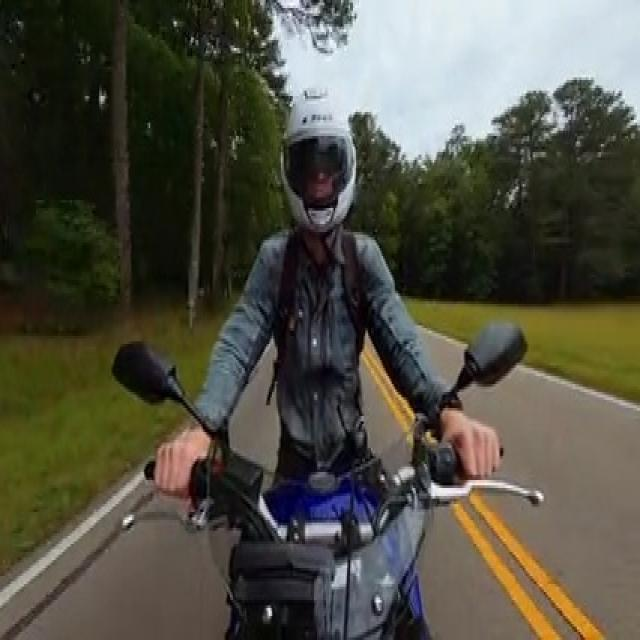Helmet_Wearer: (268, 70, 360, 227)
Person: (158, 74, 490, 512)
